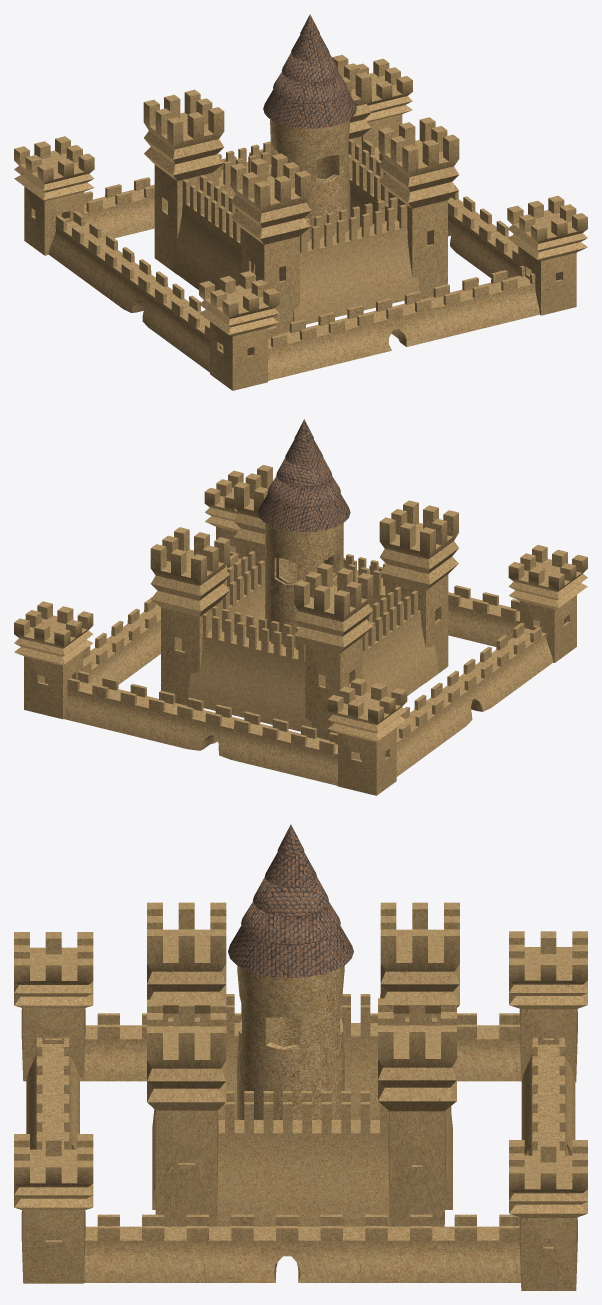
File: New_Castle.FBX
3 renders of one model, top to bottom at view 1: azimuth 30°, elevation 25°; view 2: azimuth 150°, elevation 25°; view 3: azimuth 270°, elevation 25°, orthographic. The views are drawn at different scales.
Parts seen in each view (by area): view 1: LittleWall004, Big_Wall003, LittleWall002, Boxy_Tower006, Boxy_Tower005, Boxy_Tower008, Boxy_Tower002, Boxy_Tower1, Roof, Boxy_Tower003, Big_Wall, Castle (+6 smaller); view 2: LittleWall003, Big_Wall002, Boxy_Tower008, Boxy_Tower007, LittleWall002, Boxy_Tower005, Boxy_Tower003, Boxy_Tower004, Roof, Boxy_Tower002, Big_Wall, Castle (+6 smaller); view 3: LittleWall1, Big_Wall001, Boxy_Tower006, Boxy_Tower007, Castle, Roof, Boxy_Tower1, Boxy_Tower004, Boxy_Tower002, Boxy_Tower003, LittleWall002, Boxy_Tower005 (+6 smaller).
Boxes of the visible parts, box(x1,y1,x2,y2) form: LittleWall004: box(247, 266, 539, 380); Big_Wall003: box(279, 197, 419, 324); LittleWall002: box(48, 211, 223, 372); Boxy_Tower006: box(378, 117, 459, 299); Boxy_Tower005: box(230, 153, 311, 334); Boxy_Tower008: box(143, 89, 224, 274); Boxy_Tower002: box(199, 271, 279, 390); Boxy_Tower1: box(507, 195, 587, 315); Roof: box(263, 14, 356, 128); Boxy_Tower003: box(14, 136, 94, 255); Big_Wall: box(172, 175, 254, 290); Castle: box(270, 119, 350, 239); LittleWall003: box(63, 670, 360, 785); Big_Wall002: box(188, 606, 325, 731); Boxy_Tower008: box(294, 563, 373, 740); Boxy_Tower007: box(150, 527, 229, 705); LittleWall002: box(396, 622, 553, 776); Boxy_Tower005: box(379, 500, 458, 682); Boxy_Tower003: box(327, 678, 407, 795); Boxy_Tower004: box(14, 601, 93, 719); Roof: box(258, 419, 350, 531); Boxy_Tower002: box(508, 545, 587, 662); Big_Wall: box(362, 586, 438, 697); Castle: box(265, 523, 343, 647); LittleWall1: box(84, 1214, 520, 1282); Big_Wall001: box(214, 1091, 389, 1226); Boxy_Tower006: box(147, 999, 226, 1226); Boxy_Tower007: box(378, 998, 456, 1226); Castle: box(237, 965, 344, 1119); Roof: box(228, 824, 353, 977); Boxy_Tower1: box(14, 1134, 93, 1283); Boxy_Tower004: box(509, 1140, 587, 1290); Boxy_Tower002: box(14, 932, 93, 1081); Boxy_Tower003: box(509, 931, 587, 1082); LittleWall002: box(79, 1013, 521, 1081); Boxy_Tower005: box(147, 902, 226, 1026).
Size of the model in its own units: 125 by 85.18 by 125.
